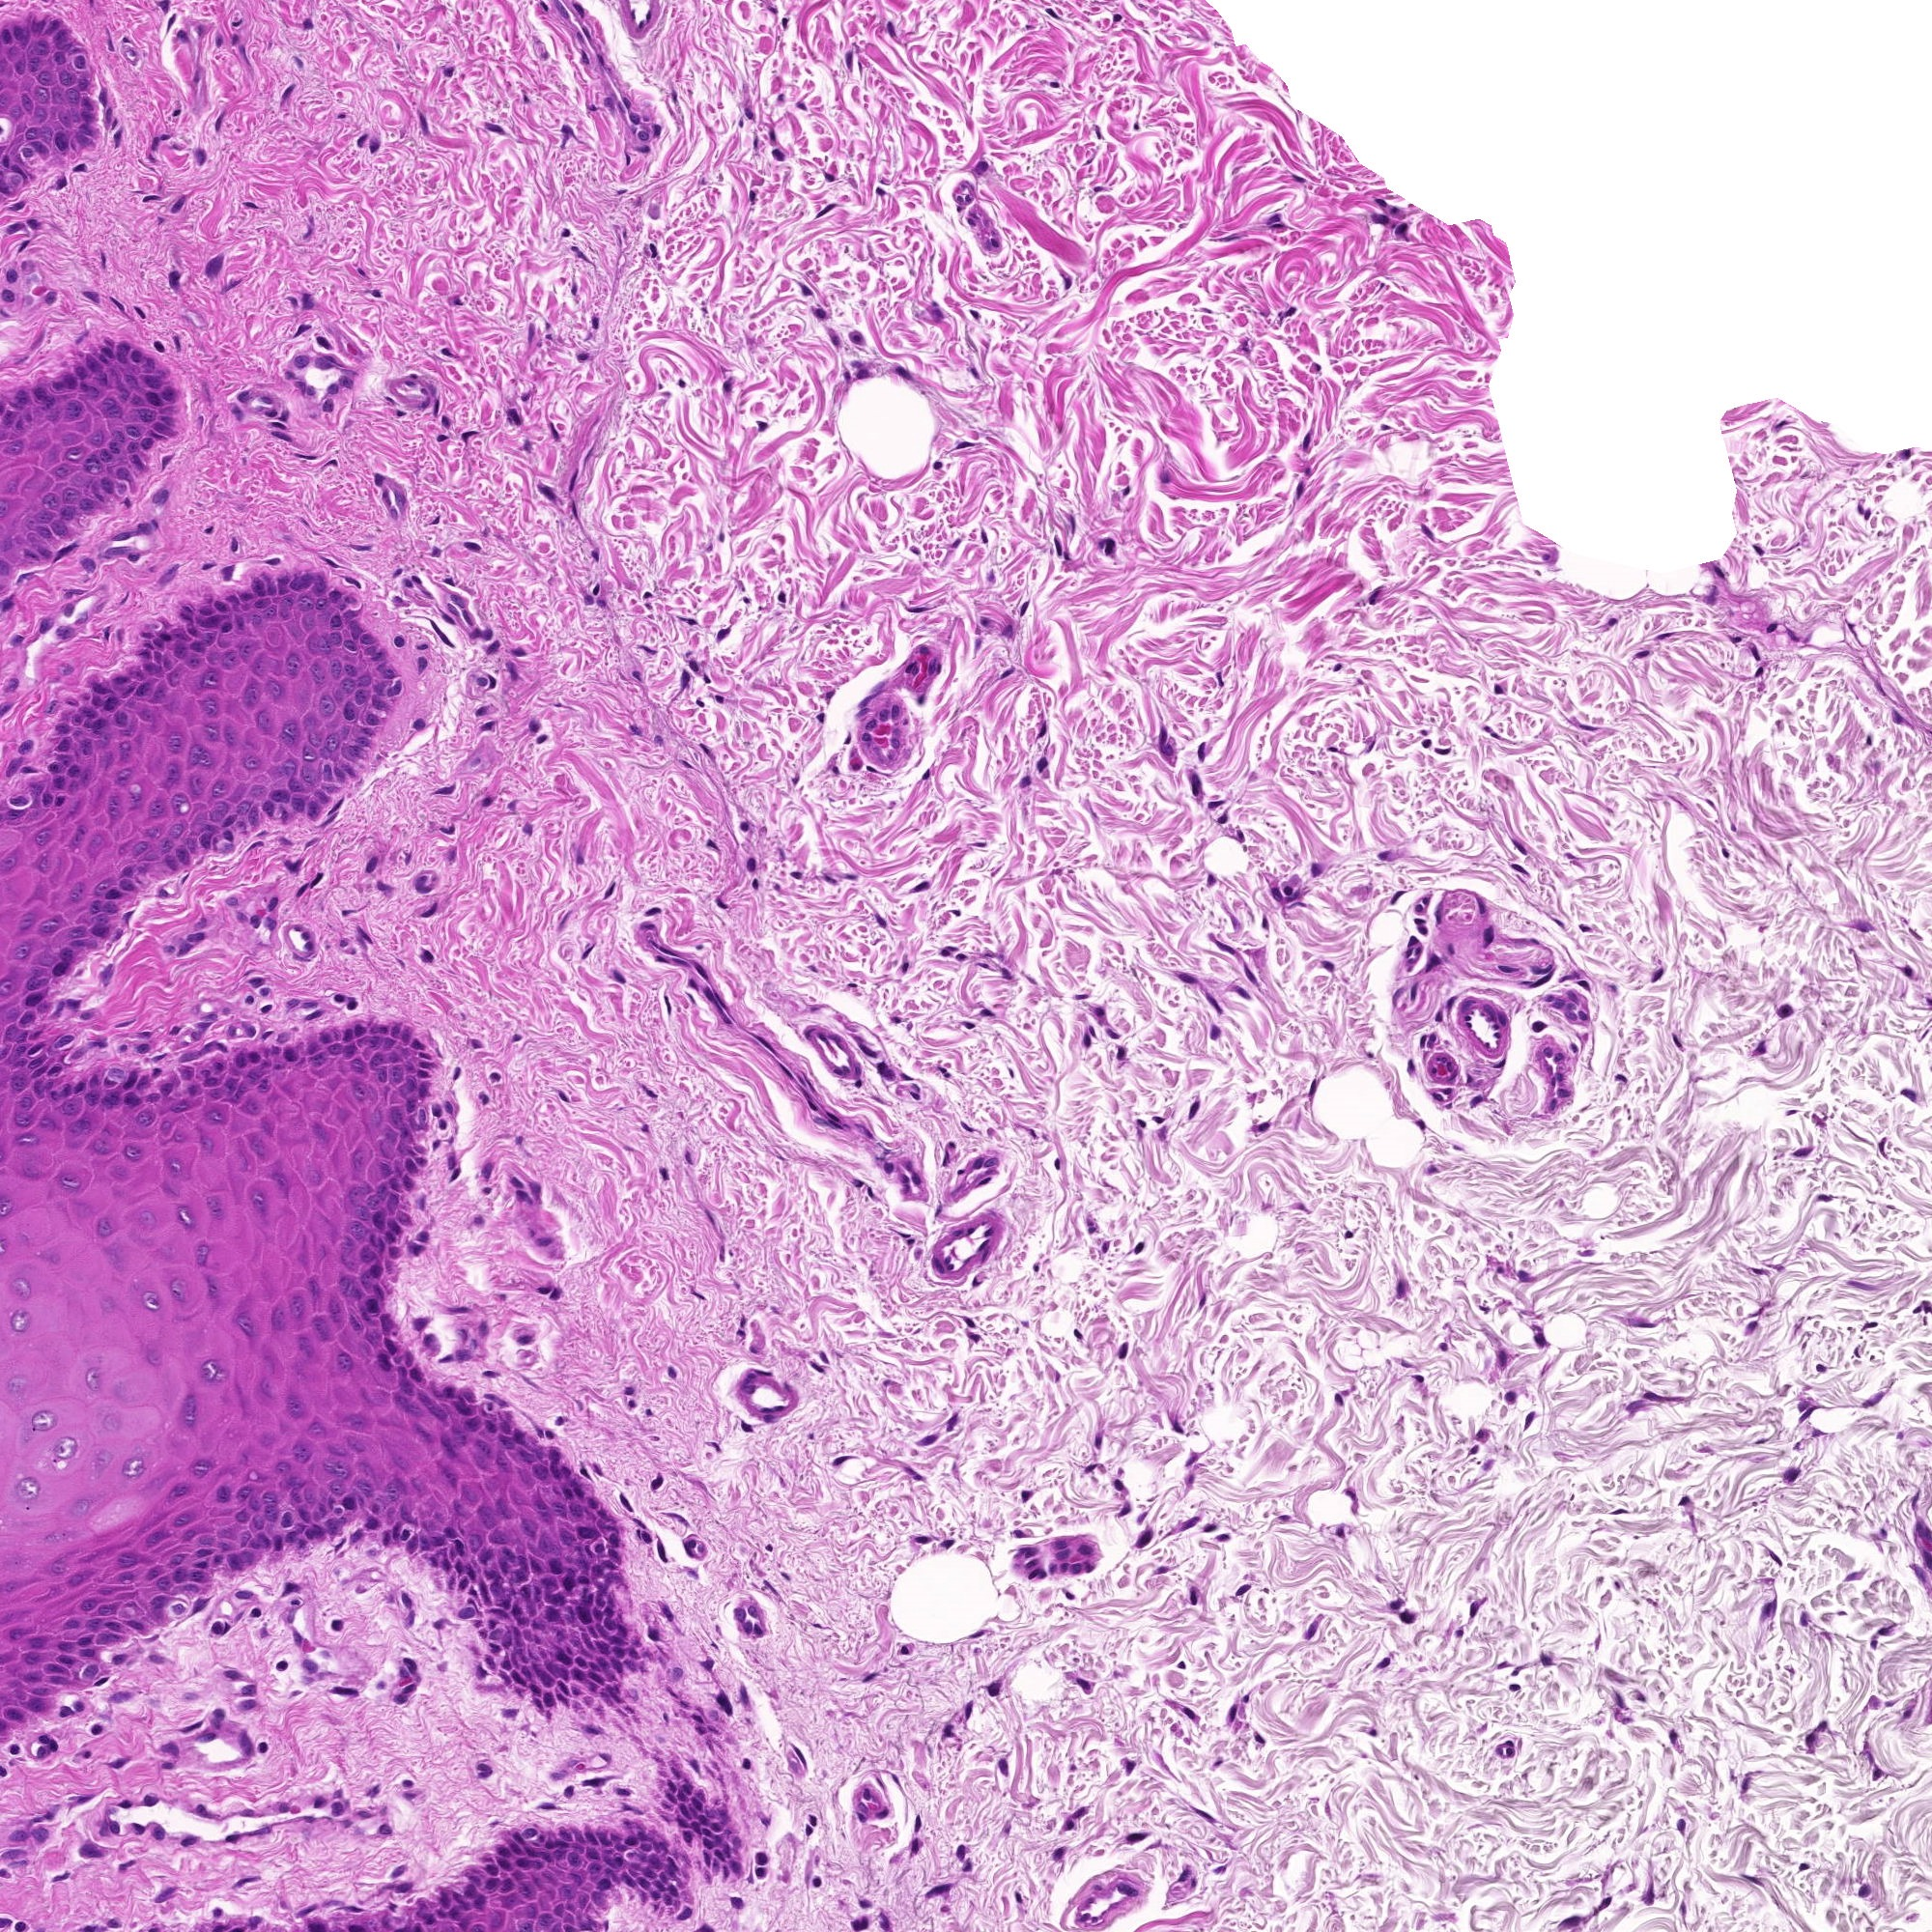epithelial: (104, 702, 136, 736), (356, 702, 387, 736), (327, 596, 359, 630), (377, 1348, 410, 1380), (219, 1054, 253, 1086), (334, 1497, 366, 1530), (73, 1601, 106, 1633), (520, 1826, 552, 1859), (138, 382, 170, 414), (44, 124, 76, 156), (57, 361, 88, 393), (152, 377, 184, 409), (131, 426, 163, 458), (69, 119, 101, 150), (14, 134, 46, 166), (131, 345, 163, 377), (27, 19, 58, 51), (87, 363, 119, 395), (62, 368, 94, 400), (74, 373, 106, 405), (87, 350, 119, 382), (48, 30, 80, 62), (150, 386, 182, 418), (4, 395, 35, 426), (81, 423, 113, 455), (111, 350, 143, 382), (97, 341, 129, 373), (127, 357, 159, 389), (58, 34, 90, 65), (50, 103, 81, 134), (14, 375, 46, 407), (142, 418, 173, 449), (34, 27, 65, 58), (23, 39, 55, 71), (97, 878, 129, 909), (92, 688, 124, 720), (83, 672, 115, 704), (39, 752, 71, 784), (209, 612, 241, 644), (363, 688, 395, 720), (212, 816, 244, 847), (320, 605, 352, 637), (48, 729, 80, 761), (290, 791, 322, 823), (267, 566, 299, 598), (111, 858, 143, 890), (196, 594, 228, 626), (156, 846, 188, 878), (19, 771, 51, 803), (80, 690, 111, 722), (133, 632, 165, 663), (361, 639, 393, 671), (375, 674, 407, 706), (69, 731, 101, 763), (120, 784, 152, 816), (290, 563, 322, 594), (334, 628, 366, 660), (64, 817, 96, 849), (150, 828, 182, 860), (225, 607, 257, 639), (278, 770, 310, 801), (460, 617, 492, 649), (207, 821, 239, 853), (145, 479, 177, 511), (235, 747, 267, 778), (237, 584, 269, 616), (28, 517, 60, 548), (143, 678, 175, 709), (244, 600, 276, 632), (349, 663, 380, 695), (306, 782, 338, 814), (269, 754, 301, 786), (188, 665, 219, 697), (23, 878, 55, 909), (87, 717, 119, 748), (265, 775, 297, 807), (299, 789, 331, 821), (73, 922, 104, 954), (241, 649, 272, 681), (110, 711, 142, 743), (46, 690, 78, 722), (324, 653, 356, 685), (51, 488, 83, 520), (99, 697, 131, 729), (180, 594, 212, 626), (311, 731, 343, 763), (119, 855, 150, 886), (311, 589, 343, 621), (242, 775, 274, 807), (203, 780, 235, 812), (356, 1290, 387, 1322), (395, 1088, 426, 1120), (372, 1306, 403, 1338), (310, 1023, 341, 1054), (373, 1316, 405, 1348), (150, 1072, 182, 1104), (402, 1028, 433, 1060), (407, 1074, 439, 1106), (96, 1076, 127, 1108), (315, 1030, 347, 1062), (303, 1031, 334, 1063), (396, 1152, 428, 1184), (67, 1108, 99, 1139), (373, 1024, 405, 1056), (350, 1297, 382, 1329), (23, 1072, 55, 1104), (380, 1014, 412, 1046), (237, 1060, 269, 1092), (303, 1115, 334, 1146), (106, 1069, 138, 1100), (395, 1069, 426, 1100), (172, 1056, 203, 1088), (288, 1039, 320, 1070), (260, 1306, 292, 1338), (257, 1035, 288, 1067), (212, 1047, 244, 1079), (359, 1231, 391, 1263), (329, 1346, 361, 1378), (131, 1102, 163, 1134), (389, 1116, 421, 1148), (92, 1067, 124, 1099), (278, 1389, 310, 1421), (173, 1398, 205, 1430), (235, 1090, 267, 1122), (168, 1201, 200, 1233), (191, 1127, 223, 1159), (359, 1269, 391, 1300), (359, 1214, 391, 1246), (329, 1023, 361, 1054), (379, 1042, 410, 1074), (143, 1077, 175, 1109), (269, 1046, 301, 1077), (343, 1072, 375, 1104), (2, 1046, 34, 1077), (403, 1369, 435, 1401), (73, 1090, 104, 1122), (356, 1322, 387, 1353), (173, 1040, 205, 1072), (407, 1102, 439, 1134), (373, 1161, 405, 1192), (318, 1019, 350, 1051), (182, 1062, 214, 1093), (78, 1361, 110, 1392), (308, 1318, 340, 1350), (373, 1120, 405, 1152), (343, 1023, 375, 1054), (248, 1047, 280, 1079), (41, 1040, 73, 1072), (226, 1085, 258, 1116), (25, 1408, 57, 1440), (453, 1555, 485, 1587), (458, 1881, 490, 1913), (19, 1688, 51, 1720), (218, 1479, 249, 1511), (433, 1550, 465, 1582), (78, 1608, 110, 1640), (433, 1516, 465, 1548), (71, 1635, 103, 1667), (69, 1624, 101, 1656), (16, 1661, 48, 1693), (41, 1651, 73, 1683), (410, 1527, 442, 1559), (143, 1587, 175, 1619), (57, 1608, 88, 1640), (228, 1477, 260, 1509), (62, 1562, 94, 1594), (25, 1681, 57, 1713), (389, 1500, 421, 1532), (442, 1493, 474, 1525), (350, 1472, 382, 1504), (9, 1695, 41, 1727), (255, 1486, 287, 1518), (299, 1900, 331, 1932), (449, 1543, 481, 1575), (280, 1479, 311, 1511), (380, 1513, 412, 1545), (318, 1474, 350, 1506), (142, 1598, 173, 1629), (88, 1605, 120, 1637), (853, 720, 885, 752), (878, 695, 909, 727), (858, 692, 890, 724), (481, 1410, 513, 1442), (502, 1421, 534, 1453), (731, 1371, 763, 1403), (497, 1412, 529, 1444), (481, 1391, 513, 1422), (874, 1368, 906, 1399), (570, 1516, 602, 1548), (540, 1550, 571, 1582), (602, 1845, 633, 1877), (488, 1847, 520, 1879), (501, 1661, 533, 1693), (584, 1532, 616, 1564), (502, 1821, 534, 1852), (591, 1589, 623, 1621), (594, 1608, 626, 1640), (586, 1647, 617, 1679), (656, 1852, 688, 1884), (644, 1829, 676, 1861), (596, 1677, 628, 1709), (529, 1670, 561, 1702), (586, 1573, 617, 1605), (579, 1852, 610, 1884), (577, 1486, 609, 1518), (591, 1601, 623, 1633), (536, 1651, 568, 1683), (692, 1835, 724, 1867), (525, 1456, 557, 1488), (582, 1583, 614, 1615), (513, 1656, 545, 1688), (499, 1612, 531, 1644), (672, 1821, 704, 1852), (616, 1638, 648, 1670), (492, 1658, 524, 1690), (559, 1821, 591, 1852), (556, 1644, 587, 1675), (563, 1495, 594, 1527), (621, 1813, 653, 1845), (559, 1675, 591, 1707), (690, 1822, 722, 1854), (499, 1863, 531, 1895), (584, 1562, 616, 1594), (541, 1665, 573, 1697), (621, 1831, 653, 1863), (481, 1599, 513, 1631), (575, 1610, 607, 1642), (711, 1854, 743, 1886), (531, 1580, 563, 1612), (497, 1580, 529, 1612), (545, 1483, 577, 1514), (518, 1622, 550, 1654), (568, 1479, 600, 1511), (605, 1858, 637, 1890), (579, 1522, 610, 1553), (556, 1559, 587, 1591), (591, 1667, 623, 1698), (568, 1886, 600, 1918), (612, 1844, 644, 1875), (529, 1642, 561, 1674), (1069, 1534, 1100, 1566), (1790, 1392, 1822, 1424), (219, 584, 253, 614), (327, 623, 361, 653), (205, 1039, 235, 1072), (382, 1205, 412, 1238), (435, 1449, 465, 1483), (520, 1844, 554, 1874), (669, 1769, 702, 1799), (692, 1845, 722, 1879), (506, 1652, 536, 1686), (566, 1667, 596, 1700), (5, 382, 35, 414), (136, 364, 166, 396), (90, 338, 122, 368), (5, 18, 35, 50), (74, 352, 106, 382), (12, 14, 44, 44), (65, 356, 97, 386), (44, 23, 76, 53), (108, 338, 138, 370), (44, 41, 74, 73), (90, 439, 122, 469), (58, 395, 90, 425), (71, 88, 103, 119), (78, 446, 110, 476), (396, 364, 426, 396), (51, 62, 81, 94), (119, 432, 150, 462), (65, 46, 96, 78), (4, 51, 35, 81), (108, 377, 140, 407), (18, 48, 50, 78), (42, 370, 73, 402), (58, 120, 90, 150), (108, 458, 140, 488), (119, 361, 149, 393), (127, 437, 159, 467), (103, 423, 133, 455), (67, 80, 97, 111), (35, 396, 67, 426), (81, 341, 111, 373), (28, 117, 58, 149), (19, 384, 50, 416), (4, 143, 35, 173), (120, 407, 152, 437), (294, 216, 324, 248), (149, 623, 180, 653), (81, 709, 111, 741), (196, 605, 226, 637), (260, 784, 292, 814), (333, 699, 364, 729), (244, 573, 274, 605), (106, 665, 136, 697), (191, 824, 223, 855), (253, 793, 285, 823), (205, 591, 237, 621), (172, 600, 202, 632), (85, 915, 115, 947), (73, 488, 103, 520), (50, 939, 81, 970), (285, 568, 315, 600), (165, 633, 195, 665), (230, 580, 260, 612), (34, 784, 64, 816), (166, 839, 198, 869), (58, 755, 90, 786), (73, 697, 103, 729), (356, 632, 387, 662), (48, 711, 78, 743), (304, 570, 334, 602), (2, 786, 32, 817), (180, 607, 212, 637), (111, 870, 143, 901), (27, 778, 58, 809), (191, 625, 221, 656), (189, 602, 221, 632), (46, 513, 76, 545), (177, 616, 209, 646), (260, 573, 290, 605), (212, 805, 244, 835), (276, 793, 306, 824), (97, 793, 129, 823), (235, 678, 265, 709), (318, 623, 349, 655), (96, 893, 126, 925), (64, 929, 96, 959), (235, 801, 267, 832), (50, 752, 81, 782), (62, 702, 92, 734), (62, 916, 92, 948), (214, 720, 244, 752), (67, 759, 97, 791), (336, 607, 366, 639), (278, 646, 308, 678), (28, 821, 58, 853), (85, 685, 117, 715), (196, 660, 226, 692), (9, 936, 39, 968), (304, 582, 334, 614), (262, 674, 292, 706), (62, 876, 92, 908), (267, 789, 297, 821), (329, 587, 361, 617), (88, 897, 119, 929), (90, 885, 122, 915), (28, 501, 60, 531), (195, 692, 226, 722), (195, 617, 225, 649), (11, 908, 41, 939), (345, 727, 377, 757), (149, 644, 179, 676), (311, 755, 341, 787), (92, 743, 122, 775), (159, 628, 189, 660), (88, 697, 119, 729), (110, 736, 140, 768), (35, 692, 67, 722), (212, 644, 244, 674), (214, 826, 244, 858), (48, 761, 80, 791), (333, 667, 363, 699), (230, 793, 260, 824), (301, 591, 333, 621), (184, 828, 214, 860), (196, 708, 226, 740), (163, 786, 195, 816), (228, 807, 258, 839), (48, 775, 78, 807), (366, 651, 398, 681), (251, 579, 281, 610), (301, 658, 333, 688), (18, 763, 50, 793), (81, 826, 111, 858), (133, 621, 163, 653), (131, 699, 163, 729), (44, 722, 76, 752), (23, 786, 53, 817), (119, 679, 150, 709), (16, 984, 48, 1014), (274, 1039, 306, 1069), (117, 1085, 147, 1116), (448, 1394, 479, 1424), (375, 1330, 405, 1362), (117, 1067, 149, 1097), (377, 1215, 409, 1246), (363, 1203, 393, 1235), (18, 1033, 50, 1063), (359, 1256, 391, 1286), (336, 1017, 366, 1049), (456, 1408, 487, 1440), (64, 1072, 96, 1102), (37, 1054, 69, 1085), (453, 1401, 485, 1431), (76, 1083, 108, 1113), (177, 1074, 207, 1106), (14, 993, 44, 1024), (218, 1072, 248, 1104), (444, 1382, 476, 1412), (423, 1398, 455, 1428), (380, 1099, 410, 1131), (88, 1212, 120, 1242), (303, 1042, 333, 1074), (391, 1341, 423, 1371), (18, 968, 48, 1000), (352, 1240, 382, 1272), (202, 1192, 232, 1224), (48, 1024, 80, 1054), (196, 1274, 228, 1304), (195, 1357, 226, 1387), (4, 1035, 35, 1065), (175, 1387, 205, 1419), (299, 1272, 329, 1304), (19, 1023, 51, 1053), (393, 1168, 423, 1200), (80, 1065, 110, 1097), (166, 1090, 196, 1122), (366, 1014, 396, 1046), (134, 1062, 166, 1092), (244, 1185, 274, 1217), (386, 1387, 418, 1417), (117, 1138, 149, 1168), (396, 1350, 428, 1380), (138, 1083, 168, 1115), (391, 1357, 421, 1389), (188, 1240, 218, 1272), (423, 1380, 455, 1410), (4, 1067, 34, 1099), (9, 1086, 41, 1116), (387, 1021, 419, 1051), (7, 1106, 39, 1136), (375, 1231, 405, 1263), (265, 1162, 295, 1194), (11, 1023, 41, 1054), (113, 1076, 145, 1106), (449, 1414, 479, 1445), (340, 1309, 372, 1339), (19, 1062, 51, 1092), (340, 1277, 372, 1307), (352, 1260, 384, 1290), (331, 1267, 361, 1299), (382, 1338, 412, 1369), (380, 1058, 412, 1088), (94, 1086, 124, 1118), (382, 1031, 412, 1063), (318, 1297, 350, 1327), (138, 1286, 170, 1316), (248, 1376, 280, 1407), (50, 1164, 81, 1194), (432, 1421, 462, 1453), (11, 1012, 41, 1044), (377, 1184, 409, 1214), (382, 1169, 414, 1200), (370, 1154, 402, 1184), (366, 1226, 396, 1258), (134, 1339, 166, 1369), (437, 1384, 467, 1415), (341, 1405, 372, 1437), (207, 1069, 239, 1099), (290, 1330, 320, 1362), (161, 1277, 193, 1307), (226, 1300, 257, 1332), (25, 989, 55, 1021), (202, 1077, 232, 1109), (281, 1286, 311, 1318), (246, 1039, 278, 1069), (83, 1132, 115, 1162), (327, 1099, 357, 1131), (157, 1150, 188, 1182), (455, 1389, 487, 1419), (99, 1240, 131, 1270), (396, 1380, 428, 1410), (127, 1079, 157, 1111), (34, 1074, 65, 1104), (373, 1203, 403, 1235), (395, 1136, 425, 1168), (405, 1037, 437, 1067), (441, 1419, 472, 1449), (310, 1039, 341, 1069), (267, 1031, 297, 1063), (333, 1230, 364, 1260), (340, 1177, 372, 1207), (90, 959, 120, 991), (354, 1200, 384, 1231), (301, 1412, 333, 1442), (403, 1093, 435, 1123), (255, 1345, 285, 1376), (264, 1051, 294, 1083), (359, 1185, 391, 1215), (354, 1223, 386, 1253), (173, 1208, 205, 1238), (228, 1037, 258, 1069), (4, 1019, 34, 1051), (103, 1157, 134, 1187), (400, 1109, 432, 1139), (163, 1120, 193, 1152), (60, 1115, 92, 1145), (437, 1898, 469, 1928), (207, 1479, 239, 1509), (444, 1552, 476, 1582), (180, 1560, 212, 1591), (165, 1559, 195, 1591), (299, 1516, 329, 1548), (21, 1626, 51, 1658), (16, 1644, 48, 1674), (357, 1507, 387, 1539), (421, 1546, 453, 1576), (276, 1522, 308, 1552), (94, 1619, 126, 1649), (120, 1610, 152, 1640), (219, 1546, 249, 1578), (202, 1545, 234, 1575), (317, 1513, 349, 1543), (456, 1867, 487, 1898), (2, 1698, 32, 1730), (396, 1529, 428, 1559), (76, 1654, 106, 1686), (92, 1592, 122, 1624), (166, 1504, 196, 1536), (433, 1461, 465, 1491), (430, 1895, 460, 1927), (283, 1525, 313, 1557), (451, 1598, 481, 1629), (25, 1819, 55, 1851), (41, 1663, 73, 1693), (439, 1882, 471, 1913), (313, 1506, 345, 1536), (460, 1573, 490, 1605), (380, 1472, 410, 1504), (111, 1560, 142, 1592), (451, 1884, 481, 1916), (235, 1541, 265, 1573), (407, 1893, 437, 1925), (280, 1468, 310, 1500), (161, 1545, 191, 1576), (41, 1552, 73, 1582), (88, 1622, 119, 1654), (375, 1893, 405, 1925), (460, 1523, 490, 1555), (453, 1479, 485, 1509), (173, 1518, 203, 1550), (280, 1511, 311, 1541), (172, 1568, 203, 1598), (327, 1504, 357, 1536), (90, 1576, 122, 1606), (304, 1499, 334, 1530), (320, 1454, 350, 1486), (287, 1438, 318, 1468), (402, 1472, 433, 1502), (292, 1523, 322, 1555), (437, 1437, 467, 1468), (414, 1509, 444, 1541), (237, 1488, 269, 1518), (211, 1525, 241, 1557), (283, 1490, 315, 1520), (395, 1507, 425, 1539), (437, 1568, 467, 1599), (464, 1557, 494, 1589), (80, 1592, 110, 1624), (235, 1529, 265, 1560), (414, 1539, 444, 1571), (120, 1453, 150, 1484), (458, 1856, 488, 1888), (596, 87, 626, 119), (609, 87, 639, 119), (573, 439, 605, 469), (869, 699, 901, 729), (858, 709, 888, 741), (881, 725, 911, 757), (853, 702, 885, 732), (490, 1417, 520, 1449), (771, 1373, 803, 1403), (789, 1067, 819, 1099), (563, 1660, 593, 1691), (548, 1642, 580, 1672), (541, 1583, 573, 1614), (614, 1824, 644, 1856), (529, 1660, 561, 1690), (570, 1587, 600, 1619), (570, 1599, 600, 1631), (566, 1645, 596, 1677), (488, 1836, 520, 1867), (504, 1560, 534, 1592), (607, 1614, 637, 1645), (589, 1868, 621, 1898), (559, 1474, 591, 1504), (533, 1684, 564, 1714), (508, 1847, 540, 1877), (520, 1552, 552, 1582), (533, 1568, 564, 1598), (490, 1868, 522, 1898), (612, 1865, 644, 1895), (699, 1826, 729, 1858), (490, 1546, 520, 1578), (510, 1576, 540, 1608), (520, 1674, 550, 1706), (708, 1838, 738, 1870), (490, 1647, 522, 1677), (506, 1833, 536, 1865), (669, 1778, 701, 1808), (579, 1663, 609, 1695), (568, 1564, 600, 1594), (545, 1456, 575, 1488), (602, 1651, 633, 1681), (690, 1810, 722, 1840), (639, 1847, 671, 1877), (515, 1835, 545, 1867), (582, 1555, 614, 1585), (575, 1821, 605, 1852), (628, 1867, 660, 1897), (681, 1812, 711, 1844), (587, 1499, 617, 1530), (589, 1509, 621, 1539), (561, 1486, 591, 1518), (545, 1656, 575, 1688), (531, 1842, 563, 1872), (497, 1844, 529, 1874), (550, 1522, 582, 1552), (534, 1831, 564, 1863), (655, 1867, 685, 1898), (582, 1599, 614, 1629), (598, 1539, 630, 1569), (706, 1801, 738, 1831), (722, 1851, 752, 1882), (501, 1543, 533, 1573), (522, 1610, 554, 1640), (506, 1603, 536, 1635), (540, 1449, 571, 1479), (568, 1548, 598, 1580), (481, 1559, 513, 1589), (678, 1780, 708, 1812), (593, 1550, 625, 1580), (605, 1836, 635, 1868), (699, 1805, 729, 1836), (483, 1522, 513, 1553), (593, 1851, 625, 1881), (557, 1599, 589, 1629), (591, 1656, 621, 1688), (591, 1617, 621, 1649), (545, 1493, 575, 1525), (600, 1619, 630, 1651), (541, 1838, 571, 1870), (717, 1829, 748, 1859), (494, 1884, 524, 1916), (487, 1580, 518, 1610), (646, 1859, 676, 1891), (715, 1844, 745, 1875), (492, 1858, 522, 1890), (515, 1667, 545, 1698), (543, 1683, 573, 1714), (552, 1875, 582, 1907), (563, 1861, 593, 1893), (575, 1649, 607, 1679), (632, 1844, 663, 1874), (524, 1490, 556, 1520), (513, 1513, 543, 1545), (515, 1897, 545, 1928), (488, 1495, 518, 1527), (640, 1879, 671, 1911), (538, 1440, 570, 1470), (568, 1826, 600, 1856), (545, 1619, 575, 1651), (616, 1651, 648, 1681), (598, 1513, 628, 1545), (614, 1810, 644, 1842), (573, 1576, 603, 1608), (517, 1591, 547, 1622), (596, 1861, 628, 1891), (635, 1822, 667, 1852), (506, 1670, 536, 1702), (704, 1821, 736, 1851), (568, 1836, 598, 1868), (614, 1628, 646, 1658), (660, 1755, 690, 1787), (548, 1578, 580, 1608), (667, 1787, 697, 1819), (538, 1575, 570, 1605), (529, 1530, 561, 1560), (577, 1497, 609, 1527), (479, 1617, 511, 1647), (524, 1571, 556, 1601), (501, 1624, 533, 1654), (571, 1628, 603, 1658), (490, 1536, 522, 1566), (573, 1539, 603, 1571), (506, 1589, 536, 1621), (520, 1440, 550, 1472), (543, 1605, 573, 1637), (525, 1863, 556, 1895), (513, 1858, 543, 1890), (511, 1568, 541, 1599), (660, 1844, 692, 1874), (517, 1456, 547, 1488), (582, 1672, 614, 1702), (552, 1587, 582, 1619), (538, 1541, 570, 1571), (495, 1829, 527, 1859), (655, 1783, 685, 1815), (499, 1569, 529, 1601), (593, 1520, 623, 1552), (488, 1562, 518, 1594), (660, 1656, 692, 1686), (479, 1844, 510, 1875), (511, 1463, 541, 1495), (575, 1677, 605, 1709), (561, 1626, 593, 1656), (964, 152, 996, 182), (1260, 205, 1290, 237), (993, 614, 1023, 646), (977, 939, 1007, 971), (1422, 1047, 1453, 1079), (1047, 1534, 1079, 1564), (1063, 1552, 1093, 1583), (1047, 1550, 1079, 1580), (1042, 1541, 1074, 1571), (1645, 886, 1677, 916), (1437, 1056, 1468, 1086), (1631, 1555, 1663, 1585), (27, 380, 57, 410), (51, 368, 81, 398), (25, 133, 55, 163), (131, 402, 161, 432), (119, 416, 149, 446), (73, 103, 103, 133), (149, 412, 179, 442), (27, 32, 57, 62), (122, 341, 152, 372), (122, 446, 152, 476), (97, 395, 127, 425), (99, 433, 129, 464), (69, 69, 99, 99), (5, 157, 35, 188), (122, 386, 152, 416), (18, 119, 48, 149), (4, 407, 34, 437), (28, 62, 58, 92), (182, 62, 212, 92), (46, 456, 76, 487), (90, 464, 120, 494), (11, 87, 41, 117), (150, 370, 180, 400), (96, 359, 126, 389), (58, 435, 88, 465), (127, 674, 157, 704), (42, 768, 73, 798), (44, 786, 74, 816), (283, 787, 313, 817), (182, 632, 212, 662), (320, 580, 350, 610), (246, 589, 276, 619), (0, 798, 30, 828), (19, 540, 50, 570), (341, 616, 372, 646), (180, 640, 211, 671), (51, 499, 81, 529), (274, 720, 304, 750), (157, 759, 188, 789), (340, 736, 370, 766), (274, 784, 304, 814), (352, 623, 382, 653), (142, 794, 172, 824), (133, 644, 163, 674), (345, 681, 375, 711), (195, 816, 225, 846), (28, 538, 58, 568), (165, 623, 195, 653), (136, 653, 166, 683), (329, 757, 359, 787), (203, 771, 234, 801), (373, 658, 403, 688), (184, 740, 214, 770), (161, 729, 191, 759), (366, 674, 396, 704), (108, 763, 138, 793), (211, 600, 241, 630), (334, 655, 364, 685), (35, 485, 65, 515), (124, 660, 154, 690), (27, 847, 57, 878), (248, 706, 278, 736), (269, 800, 299, 830), (143, 628, 173, 658), (179, 771, 209, 801), (272, 586, 303, 616), (274, 573, 304, 603), (11, 927, 41, 957), (58, 770, 88, 800), (350, 717, 380, 747), (230, 633, 260, 663), (308, 628, 338, 658), (209, 798, 239, 828), (196, 718, 226, 748), (251, 568, 281, 598), (311, 690, 341, 720), (157, 660, 188, 690), (127, 833, 157, 863), (191, 747, 221, 777), (136, 817, 166, 847), (83, 481, 113, 511), (60, 793, 90, 823), (12, 777, 42, 807), (255, 596, 285, 626), (239, 1042, 269, 1072), (103, 1085, 133, 1115), (433, 1378, 464, 1408), (12, 1003, 42, 1033), (402, 1359, 432, 1389), (21, 1047, 51, 1077), (203, 1051, 234, 1081), (334, 1035, 364, 1065), (225, 1046, 255, 1076), (127, 1069, 157, 1099), (391, 1371, 421, 1401), (50, 1076, 80, 1106), (195, 1065, 225, 1095), (359, 1026, 389, 1056), (361, 1044, 391, 1074), (409, 1384, 439, 1414), (347, 1016, 377, 1046), (363, 1279, 393, 1309), (200, 1100, 230, 1131), (39, 1079, 69, 1109), (409, 1054, 439, 1085), (366, 1175, 396, 1205), (304, 1311, 334, 1341), (248, 1069, 278, 1099), (366, 1060, 396, 1090), (34, 1108, 64, 1138), (230, 1309, 260, 1339), (341, 1145, 372, 1175), (343, 1051, 373, 1081), (410, 1421, 441, 1451), (241, 1129, 271, 1159), (251, 1111, 281, 1141), (395, 1392, 425, 1422), (16, 1159, 46, 1189), (402, 1079, 432, 1109), (416, 1392, 446, 1422), (219, 1081, 249, 1111), (35, 1242, 65, 1272), (27, 1054, 57, 1085), (154, 1173, 184, 1203), (343, 1214, 373, 1244), (386, 1108, 416, 1138), (366, 1299, 396, 1329), (5, 1123, 35, 1154), (393, 1031, 423, 1062), (405, 1146, 435, 1177), (391, 1054, 421, 1085), (301, 1161, 331, 1191), (345, 1284, 375, 1315), (403, 1063, 433, 1093), (67, 1086, 97, 1116), (387, 1095, 418, 1125), (435, 1401, 465, 1431), (333, 1488, 363, 1518), (444, 1532, 474, 1562), (271, 1506, 301, 1536), (428, 1884, 458, 1914), (444, 1890, 474, 1920), (51, 1645, 81, 1675), (165, 1476, 195, 1506), (97, 1610, 127, 1640), (387, 1520, 418, 1550), (262, 1529, 292, 1559), (423, 1527, 453, 1557), (288, 1499, 318, 1529), (375, 1520, 405, 1550), (50, 1631, 80, 1661), (246, 1527, 276, 1557), (73, 1589, 103, 1619), (186, 1550, 216, 1580), (412, 1902, 442, 1932), (113, 1545, 143, 1575), (142, 1520, 172, 1550), (188, 1449, 218, 1479), (138, 1559, 168, 1589), (5, 1821, 35, 1851), (257, 1497, 287, 1527), (188, 1537, 218, 1568), (437, 1541, 467, 1571), (226, 1500, 257, 1530), (149, 1569, 179, 1599), (267, 1453, 297, 1483), (448, 1877, 478, 1907), (310, 1493, 340, 1523), (448, 1902, 478, 1932), (292, 1511, 322, 1541), (361, 1493, 391, 1523), (306, 1511, 336, 1541), (317, 1484, 347, 1514), (456, 1589, 487, 1619), (242, 1509, 272, 1539), (67, 1488, 97, 1518), (191, 1529, 221, 1559), (294, 1483, 324, 1513), (350, 1453, 380, 1483), (922, 299, 952, 329), (570, 18, 600, 48), (639, 196, 669, 226), (897, 653, 927, 683), (918, 651, 948, 681), (847, 692, 878, 722), (564, 842, 594, 872), (649, 936, 679, 966), (863, 704, 893, 734), (863, 676, 893, 706), (663, 943, 694, 973), (490, 1405, 520, 1435), (927, 1249, 957, 1279), (554, 1569, 584, 1599), (538, 1599, 568, 1629), (587, 1633, 617, 1663), (501, 1596, 531, 1626), (681, 1789, 711, 1819), (481, 1568, 511, 1598), (488, 1592, 518, 1622), (543, 1829, 573, 1859), (603, 1628, 633, 1658), (584, 1824, 614, 1854), (577, 1840, 607, 1870), (667, 1805, 697, 1835), (625, 1822, 655, 1852), (646, 1874, 676, 1904), (656, 1775, 686, 1805), (699, 1842, 729, 1872), (548, 1674, 579, 1704), (510, 1548, 540, 1578), (656, 1879, 686, 1909), (548, 1822, 579, 1852), (596, 1824, 626, 1854), (633, 1858, 663, 1888), (552, 1477, 582, 1507), (511, 1875, 541, 1905), (520, 1580, 550, 1610), (492, 1626, 522, 1656), (510, 1440, 540, 1470), (479, 1633, 510, 1663), (603, 1640, 633, 1670), (596, 1562, 626, 1592), (550, 1835, 580, 1865), (591, 1833, 621, 1863), (531, 1902, 561, 1932), (481, 1856, 511, 1886), (566, 1534, 596, 1564), (692, 1799, 722, 1829), (630, 1829, 660, 1859), (487, 1447, 517, 1477), (531, 1499, 561, 1529), (561, 1831, 591, 1861), (550, 1555, 580, 1585), (525, 1688, 556, 1718), (619, 1852, 649, 1882), (522, 1654, 552, 1684), (502, 1638, 533, 1668), (529, 1822, 559, 1852), (683, 1704, 713, 1734), (584, 1879, 614, 1909), (623, 1861, 653, 1891), (543, 1594, 573, 1624), (543, 1895, 573, 1925), (481, 1902, 511, 1932), (495, 1555, 525, 1585), (518, 1644, 548, 1674), (481, 1642, 511, 1672), (559, 1525, 589, 1555), (584, 1844, 614, 1874), (1230, 331, 1260, 361), (978, 228, 1008, 258), (959, 203, 989, 234), (1215, 223, 1246, 253), (1056, 508, 1086, 538), (1355, 729, 1385, 759), (1847, 911, 1877, 941), (1534, 541, 1564, 571), (1490, 943, 1520, 973), (1456, 1065, 1486, 1095), (1453, 1003, 1483, 1033), (1805, 1106, 1835, 1136), (1555, 996, 1585, 1026), (1573, 1767, 1603, 1798), (1898, 1484, 1928, 1514), (1858, 1686, 1888, 1716), (34, 386, 62, 418), (111, 368, 143, 396), (4, 96, 35, 124), (80, 893, 111, 922), (96, 678, 124, 709), (44, 738, 73, 770), (96, 916, 124, 948), (370, 1345, 398, 1376), (55, 1093, 87, 1122), (453, 1578, 481, 1610), (426, 1534, 458, 1562), (467, 1541, 495, 1573), (557, 464, 589, 492), (561, 1844, 589, 1875), (600, 1525, 628, 1557), (685, 1803, 713, 1835), (513, 1819, 545, 1847), (568, 1504, 596, 1536), (479, 1608, 508, 1640), (1067, 1902, 1099, 1930), (39, 12, 69, 41), (21, 12, 51, 41), (113, 674, 143, 702), (34, 913, 62, 943), (67, 495, 97, 524), (295, 706, 324, 736), (451, 1566, 481, 1594), (2, 1619, 30, 1649), (423, 1902, 453, 1930), (941, 1219, 971, 1247), (669, 1798, 699, 1826), (552, 1465, 582, 1493), (479, 1868, 508, 1898), (571, 1902, 602, 1930), (1817, 747, 1847, 775)
fibroblast and endothelial: (117, 518, 150, 550), (241, 1016, 274, 1047), (832, 860, 865, 892), (1097, 1017, 1129, 1051), (166, 19, 198, 51), (271, 76, 303, 108), (228, 380, 260, 412), (101, 120, 133, 152), (163, 188, 195, 219), (308, 345, 340, 377), (416, 389, 448, 421), (407, 106, 439, 138), (428, 403, 460, 435), (267, 421, 299, 453), (225, 387, 257, 419), (9, 211, 41, 242), (303, 373, 334, 405), (290, 441, 322, 472), (2, 203, 34, 235), (264, 407, 295, 439), (97, 110, 129, 142), (117, 540, 149, 571), (285, 874, 317, 906), (414, 895, 446, 927), (396, 564, 428, 596), (193, 513, 225, 545), (382, 481, 414, 513), (92, 617, 124, 649), (191, 550, 223, 582), (111, 487, 143, 518), (464, 695, 495, 727), (442, 584, 474, 616), (382, 584, 414, 616), (241, 826, 272, 858), (382, 556, 414, 587), (331, 895, 363, 927), (290, 936, 322, 968), (327, 984, 359, 1016), (242, 964, 274, 996), (407, 1221, 439, 1253), (402, 1233, 433, 1265), (62, 991, 94, 1023), (83, 1026, 115, 1058), (129, 1019, 161, 1051), (267, 991, 299, 1023), (96, 1030, 127, 1062), (44, 993, 76, 1024), (246, 1730, 278, 1762), (216, 1822, 248, 1854), (97, 1812, 129, 1844), (303, 1787, 334, 1819), (290, 1895, 322, 1927), (78, 1835, 110, 1867), (320, 1608, 352, 1640), (216, 1658, 248, 1690), (186, 1794, 218, 1826), (225, 1578, 257, 1610), (387, 1872, 419, 1904), (228, 1865, 260, 1897), (423, 1608, 455, 1640), (349, 1798, 380, 1829), (69, 1737, 101, 1769), (338, 1893, 370, 1925), (391, 1767, 423, 1799), (267, 1790, 299, 1822), (182, 1716, 214, 1748), (140, 1642, 172, 1674), (4, 1898, 35, 1930), (464, 1654, 495, 1686), (124, 1810, 156, 1842), (237, 1819, 269, 1851), (226, 1665, 258, 1697), (364, 1668, 396, 1700), (639, 113, 671, 145), (839, 359, 870, 391), (628, 133, 660, 165), (637, 234, 669, 265), (570, 41, 602, 73), (510, 380, 541, 412), (764, 81, 796, 113), (839, 331, 870, 363), (678, 649, 709, 681), (706, 617, 738, 649), (908, 633, 939, 665), (821, 862, 853, 893), (738, 862, 770, 893), (729, 810, 761, 842), (695, 828, 727, 860), (674, 605, 706, 637), (839, 748, 870, 780), (780, 858, 812, 890), (909, 759, 941, 791), (582, 582, 614, 614), (750, 869, 782, 901), (939, 527, 971, 559), (888, 941, 920, 973), (495, 789, 527, 821), (497, 658, 529, 690), (853, 1037, 885, 1069), (697, 980, 729, 1012), (817, 1104, 849, 1136), (899, 1159, 931, 1191), (893, 1164, 925, 1196), (529, 1274, 561, 1306), (520, 1173, 552, 1205), (747, 1359, 778, 1391), (853, 1173, 885, 1205), (614, 1378, 646, 1410), (656, 1357, 688, 1389), (823, 1026, 855, 1058), (807, 1341, 839, 1373), (881, 1003, 913, 1035), (913, 1421, 945, 1453), (847, 1030, 879, 1062), (738, 1350, 770, 1382), (740, 1332, 771, 1364), (893, 1070, 925, 1102), (499, 1164, 531, 1196), (835, 1046, 867, 1077), (646, 1536, 678, 1568), (906, 1523, 938, 1555), (725, 1681, 757, 1713), (575, 1714, 607, 1746), (731, 1748, 763, 1780), (738, 1603, 770, 1635), (679, 1748, 711, 1780), (844, 1898, 876, 1930), (867, 1900, 899, 1932), (897, 1833, 929, 1865), (879, 1762, 911, 1794), (541, 1759, 573, 1790), (584, 1454, 616, 1486), (653, 1539, 685, 1571), (770, 1560, 801, 1592), (1366, 203, 1398, 235), (1290, 425, 1322, 456), (1380, 205, 1412, 237), (1100, 2, 1132, 34), (959, 356, 991, 387), (1380, 879, 1412, 911), (1010, 764, 1042, 796), (1026, 748, 1058, 780), (1026, 713, 1058, 745), (1150, 732, 1182, 764), (1412, 885, 1444, 916), (1316, 732, 1348, 764), (1171, 962, 1203, 994), (1072, 1021, 1104, 1053), (1125, 1108, 1157, 1139), (1200, 989, 1231, 1021), (1122, 1231, 1154, 1263), (1332, 1219, 1364, 1251), (970, 1226, 1001, 1258), (1200, 1016, 1231, 1047), (1394, 1051, 1426, 1083), (1062, 1318, 1093, 1350), (959, 1265, 991, 1297), (968, 1235, 1000, 1267), (1146, 1116, 1178, 1148), (1421, 1079, 1453, 1111), (1021, 1251, 1053, 1283), (1092, 1010, 1123, 1042), (1118, 1821, 1150, 1852), (1389, 1599, 1421, 1631), (1173, 1697, 1205, 1729), (1226, 1573, 1258, 1605), (1042, 1836, 1074, 1868), (1072, 1550, 1104, 1582), (1244, 1723, 1276, 1755), (1336, 1477, 1368, 1509), (1053, 1578, 1085, 1610), (1146, 1553, 1178, 1585), (1230, 1683, 1261, 1714), (1224, 1688, 1256, 1720), (1164, 1647, 1196, 1679), (1847, 495, 1879, 527), (1720, 623, 1752, 655), (1476, 717, 1507, 748), (1513, 925, 1545, 957), (1835, 610, 1867, 642), (1522, 1010, 1553, 1042), (1642, 959, 1674, 991), (1893, 1077, 1925, 1109), (1769, 994, 1801, 1026), (1495, 1380, 1527, 1412), (1637, 1380, 1668, 1412), (1548, 985, 1580, 1017), (1451, 993, 1483, 1024), (1486, 1003, 1518, 1035), (1546, 1074, 1578, 1106), (1661, 1024, 1693, 1056), (1808, 1182, 1840, 1214), (1539, 961, 1571, 993), (1437, 985, 1468, 1017), (1472, 994, 1504, 1026), (1736, 1309, 1767, 1341), (1842, 1336, 1874, 1368), (1794, 1723, 1826, 1755), (1499, 1670, 1530, 1702), (1776, 1458, 1808, 1490), (1861, 1757, 1893, 1789), (1806, 1709, 1838, 1741), (1668, 1484, 1700, 1516), (1752, 1592, 1783, 1624), (1633, 1881, 1665, 1913), (1665, 1808, 1697, 1840), (1500, 1654, 1532, 1686), (1598, 1660, 1629, 1691), (258, 545, 288, 579), (257, 1017, 287, 1051), (701, 683, 734, 713), (1555, 909, 1589, 939), (308, 326, 338, 357), (350, 127, 382, 157), (159, 262, 189, 294), (433, 423, 465, 453), (18, 207, 50, 237), (198, 249, 230, 280), (359, 131, 389, 163), (311, 389, 341, 421), (46, 166, 76, 198), (134, 182, 165, 214), (292, 7, 322, 39), (147, 122, 177, 154), (257, 398, 288, 428), (234, 189, 265, 219), (103, 288, 133, 320), (76, 280, 106, 311), (124, 297, 156, 327), (267, 400, 297, 432), (221, 7, 253, 37), (253, 389, 283, 421), (9, 228, 39, 260), (2, 191, 34, 221), (331, 364, 361, 396), (361, 278, 391, 310), (186, 140, 216, 172), (221, 396, 253, 426), (433, 55, 464, 87), (216, 269, 248, 299), (159, 329, 191, 359), (186, 14, 216, 46), (219, 19, 251, 50), (88, 81, 119, 113), (35, 281, 65, 313), (288, 361, 318, 393), (140, 127, 170, 159), (317, 446, 347, 478), (223, 28, 255, 58), (92, 92, 122, 124), (299, 350, 331, 380), (110, 27, 142, 57), (313, 354, 343, 386), (88, 244, 119, 276), (301, 863, 331, 895), (50, 534, 80, 566), (258, 886, 288, 918), (276, 849, 308, 879), (410, 941, 442, 971), (407, 639, 437, 671), (50, 616, 80, 648), (108, 520, 140, 550), (103, 538, 134, 568), (104, 527, 134, 559), (73, 548, 103, 580), (257, 901, 288, 931), (11, 731, 41, 763), (384, 625, 414, 656), (28, 610, 58, 642), (129, 513, 161, 543), (338, 566, 370, 596), (453, 600, 483, 632), (239, 906, 271, 936), (368, 872, 398, 904), (421, 614, 453, 644), (219, 529, 249, 561), (182, 920, 214, 950), (405, 869, 437, 899), (432, 603, 464, 633), (433, 626, 464, 658), (433, 564, 465, 594), (315, 547, 345, 579), (421, 536, 451, 568), (285, 916, 317, 947), (281, 858, 311, 890), (402, 628, 432, 660), (55, 594, 85, 626), (435, 839, 467, 869), (421, 628, 453, 658), (347, 531, 377, 563), (448, 593, 479, 623), (441, 623, 472, 653), (157, 932, 188, 964), (4, 748, 34, 780), (216, 886, 248, 916), (154, 557, 184, 589), (292, 869, 322, 901), (370, 481, 402, 511), (437, 575, 467, 607), (432, 614, 464, 644), (228, 901, 258, 932), (336, 987, 366, 1019), (428, 1093, 458, 1125), (405, 1307, 435, 1339), (414, 1323, 444, 1355), (446, 1341, 478, 1371), (295, 989, 326, 1021), (442, 1295, 474, 1325), (280, 987, 310, 1019), (127, 1031, 157, 1063), (460, 1026, 490, 1058), (242, 985, 274, 1016), (423, 1118, 453, 1150), (71, 1000, 101, 1031), (193, 1003, 223, 1035), (161, 1016, 193, 1046), (462, 1203, 492, 1235), (188, 1010, 218, 1042), (108, 1031, 138, 1063), (329, 1675, 361, 1706), (35, 1730, 67, 1760), (30, 1725, 60, 1757), (55, 1693, 87, 1723), (386, 1683, 416, 1714), (28, 1736, 58, 1767), (143, 1815, 173, 1847), (239, 1596, 271, 1626), (391, 1583, 421, 1615), (274, 1573, 306, 1603), (203, 1698, 234, 1730), (182, 1591, 214, 1621), (173, 1826, 203, 1858), (202, 1897, 234, 1927), (115, 1812, 145, 1844), (80, 1714, 111, 1744), (234, 1675, 265, 1706), (322, 1792, 352, 1824), (133, 1813, 165, 1844), (104, 1642, 134, 1674), (46, 1861, 76, 1893), (156, 1734, 188, 1764), (85, 1667, 117, 1697), (280, 1587, 310, 1619), (341, 1520, 372, 1552), (232, 1732, 264, 1762), (196, 1714, 228, 1744), (150, 1879, 180, 1911), (276, 1594, 306, 1626), (234, 1798, 264, 1829), (322, 1783, 354, 1813), (294, 1803, 324, 1835), (228, 1725, 260, 1755), (384, 1865, 416, 1895), (237, 1902, 269, 1932), (324, 1529, 354, 1560), (297, 1652, 329, 1683), (297, 1794, 327, 1826), (248, 1617, 280, 1647), (50, 1698, 80, 1730), (331, 1808, 363, 1838), (464, 1610, 494, 1642), (810, 195, 840, 226), (499, 402, 529, 433), (805, 297, 835, 329), (763, 138, 793, 170), (791, 274, 823, 304), (814, 161, 846, 191), (835, 322, 867, 352), (550, 216, 580, 248), (711, 372, 743, 402), (770, 5, 800, 37), (876, 12, 906, 44), (580, 306, 610, 338), (757, 120, 789, 150), (922, 449, 954, 479), (563, 237, 594, 267), (847, 354, 878, 386), (628, 7, 660, 37), (732, 99, 763, 131), (616, 97, 646, 129), (865, 175, 897, 205), (577, 92, 607, 124), (559, 274, 589, 306), (658, 80, 688, 111), (554, 225, 584, 257), (515, 317, 545, 349), (906, 870, 938, 901), (637, 895, 667, 927), (524, 722, 556, 752), (901, 594, 932, 625), (594, 874, 625, 906), (736, 849, 768, 879), (805, 701, 835, 732), (865, 906, 897, 936), (499, 648, 529, 679), (690, 734, 722, 764), (571, 936, 602, 968), (580, 573, 610, 605), (685, 662, 717, 692), (633, 633, 663, 665), (833, 722, 863, 754), (909, 644, 939, 676), (632, 911, 663, 941), (573, 584, 603, 616), (646, 941, 676, 973), (943, 939, 973, 971), (780, 763, 810, 794), (807, 862, 839, 892), (706, 520, 736, 552), (538, 1277, 570, 1307), (731, 1412, 761, 1444), (513, 1178, 543, 1210), (842, 1067, 874, 1097), (801, 1352, 833, 1382), (704, 987, 736, 1017), (504, 1171, 534, 1203), (893, 1224, 925, 1254), (754, 1394, 786, 1424), (844, 1168, 874, 1200), (649, 1157, 679, 1189), (824, 1054, 855, 1086), (633, 1077, 665, 1108), (883, 1150, 915, 1180), (736, 1362, 766, 1394), (842, 1054, 874, 1085), (545, 1403, 575, 1435), (479, 1062, 511, 1092), (510, 1323, 541, 1353), (692, 973, 722, 1005), (893, 1150, 925, 1180), (529, 1226, 561, 1256), (936, 1129, 966, 1161), (688, 959, 720, 989), (837, 970, 867, 1001), (832, 1062, 863, 1092), (743, 1396, 775, 1426), (683, 1279, 713, 1311), (672, 1141, 702, 1173), (803, 1021, 835, 1051), (633, 1396, 665, 1426), (890, 1173, 920, 1205), (752, 1401, 782, 1433), (872, 1060, 904, 1090), (695, 1201, 725, 1233), (711, 1691, 741, 1723), (708, 1684, 738, 1716), (741, 1614, 771, 1645), (901, 1822, 931, 1854), (931, 1527, 962, 1557), (794, 1810, 826, 1840), (924, 1874, 954, 1905), (901, 1808, 932, 1838), (731, 1612, 763, 1642), (824, 1444, 855, 1476), (867, 1798, 897, 1829), (801, 1867, 833, 1897), (727, 1598, 759, 1628), (573, 1456, 605, 1486), (888, 1635, 920, 1665), (671, 1897, 701, 1928), (630, 1520, 660, 1552), (639, 1619, 671, 1649), (932, 1714, 962, 1746), (533, 1790, 563, 1822), (674, 1530, 706, 1560), (784, 1739, 814, 1771), (851, 1776, 881, 1808), (855, 1661, 885, 1693), (846, 1799, 878, 1829), (899, 1458, 929, 1490), (663, 1534, 695, 1564), (623, 1509, 655, 1539), (663, 1502, 695, 1532), (676, 1557, 708, 1587), (665, 1684, 697, 1714), (738, 1594, 770, 1624), (858, 1773, 890, 1803), (669, 1750, 699, 1782), (943, 1835, 973, 1867), (731, 1858, 763, 1888), (564, 1773, 596, 1803), (869, 1766, 899, 1798), (1378, 195, 1410, 225), (1368, 188, 1399, 218), (1274, 297, 1306, 327), (1053, 265, 1083, 297), (1283, 163, 1313, 195), (1290, 456, 1320, 488), (1083, 117, 1113, 149), (1284, 465, 1316, 495), (1399, 929, 1430, 961), (1092, 529, 1122, 561), (1274, 876, 1306, 906), (1261, 876, 1292, 908), (1205, 803, 1237, 833), (1403, 902, 1435, 932), (1396, 938, 1426, 970), (1405, 890, 1437, 920), (1210, 932, 1242, 962), (1046, 534, 1076, 566), (1300, 855, 1332, 885), (1224, 821, 1256, 851), (1249, 908, 1279, 939), (970, 522, 1000, 554), (1369, 839, 1399, 870), (1419, 941, 1449, 973), (1196, 863, 1226, 895), (1421, 901, 1453, 931), (1203, 663, 1235, 694), (1053, 540, 1083, 571), (1398, 918, 1428, 950), (1283, 881, 1313, 913), (1414, 908, 1445, 938), (1396, 885, 1426, 916), (1407, 932, 1437, 964), (1178, 1093, 1208, 1125), (1106, 1037, 1136, 1069), (1085, 994, 1115, 1026), (1161, 1412, 1192, 1442), (1108, 1336, 1138, 1368), (971, 996, 1001, 1028), (1145, 1106, 1175, 1138), (1412, 1024, 1444, 1054), (1405, 1109, 1437, 1139), (1042, 1148, 1074, 1178), (1398, 977, 1430, 1007), (1323, 1382, 1353, 1414), (1403, 1362, 1433, 1394), (1382, 978, 1412, 1010), (1385, 1272, 1415, 1304), (1076, 1210, 1108, 1240), (975, 1152, 1005, 1184), (991, 959, 1021, 991), (1065, 980, 1095, 1012), (1086, 1017, 1118, 1047), (1187, 1284, 1219, 1315), (1017, 1118, 1049, 1148), (1389, 1348, 1421, 1378), (1417, 1054, 1447, 1086), (1023, 1557, 1053, 1589), (1129, 1523, 1159, 1555), (1191, 1511, 1223, 1541), (1014, 1537, 1044, 1569), (978, 1672, 1008, 1704), (1189, 1799, 1221, 1829), (1380, 1589, 1410, 1621), (1203, 1518, 1235, 1548), (1215, 1697, 1247, 1727), (1178, 1580, 1208, 1612), (1295, 1615, 1327, 1645), (1113, 1750, 1145, 1780), (1115, 1875, 1145, 1907), (1010, 1479, 1042, 1509), (1001, 1882, 1033, 1913), (1017, 1548, 1047, 1580), (1031, 1553, 1063, 1583), (1269, 1502, 1299, 1534), (1175, 1865, 1205, 1897), (1357, 1716, 1389, 1746), (1175, 1463, 1205, 1495), (1074, 1886, 1104, 1918), (1205, 1852, 1235, 1884), (1127, 1500, 1157, 1532), (1203, 1746, 1233, 1778), (1210, 1522, 1240, 1553), (1891, 437, 1921, 469), (1739, 637, 1771, 667), (1502, 853, 1534, 883), (1472, 920, 1504, 950), (1506, 832, 1536, 863), (1483, 674, 1514, 704), (1628, 637, 1658, 669), (1697, 580, 1727, 612), (1852, 725, 1884, 755), (1647, 621, 1679, 651), (1882, 702, 1914, 732), (1865, 671, 1895, 702), (1525, 1323, 1555, 1355), (1461, 1085, 1493, 1115), (1569, 968, 1599, 1000), (1628, 1307, 1658, 1339), (1467, 1419, 1497, 1451), (1854, 1309, 1886, 1339), (1513, 1403, 1545, 1433), (1527, 964, 1559, 994), (1539, 1086, 1569, 1118), (1746, 1031, 1776, 1063), (1557, 982, 1587, 1014), (1484, 1047, 1514, 1079), (1507, 1261, 1539, 1292), (1867, 1129, 1897, 1161), (1605, 1063, 1637, 1093), (1568, 1001, 1599, 1031), (1805, 1350, 1835, 1382), (1550, 962, 1582, 993), (1543, 1062, 1573, 1093), (1537, 984, 1568, 1016), (1626, 1387, 1656, 1419), (1598, 973, 1629, 1003), (1493, 1256, 1525, 1286), (1484, 1254, 1516, 1284), (1591, 1886, 1621, 1918), (1760, 1541, 1790, 1573), (1737, 1863, 1767, 1895), (1658, 1720, 1688, 1752), (1530, 1644, 1560, 1675), (1847, 1875, 1879, 1905), (1603, 1684, 1633, 1716), (1557, 1898, 1587, 1930), (1789, 1603, 1819, 1635), (1626, 1681, 1656, 1713), (1486, 1649, 1518, 1679), (1582, 1895, 1612, 1927), (1867, 1516, 1897, 1548), (1852, 1737, 1882, 1769), (287, 313, 317, 343), (143, 331, 173, 361), (453, 419, 483, 449), (292, 287, 322, 317), (65, 152, 96, 182), (288, 372, 318, 402), (428, 414, 458, 444), (150, 446, 180, 476), (287, 345, 317, 375), (318, 373, 349, 403), (364, 464, 395, 494), (156, 5, 186, 35), (212, 25, 242, 55), (283, 285, 313, 315), (203, 108, 234, 138), (311, 338, 341, 368), (432, 336, 462, 366), (4, 218, 34, 248), (246, 382, 276, 412), (161, 97, 191, 127), (441, 287, 471, 317), (96, 103, 126, 133), (423, 396, 453, 426), (203, 27, 234, 57), (345, 257, 375, 287), (317, 382, 347, 412), (456, 531, 487, 561), (403, 709, 433, 740), (292, 925, 322, 955), (212, 556, 242, 586), (253, 908, 283, 938), (2, 625, 32, 655), (356, 849, 386, 879), (318, 796, 349, 826), (349, 920, 379, 950), (433, 814, 464, 844), (407, 649, 437, 679), (12, 754, 42, 784), (147, 878, 177, 908), (57, 577, 87, 607), (421, 504, 451, 534), (271, 826, 301, 856), (375, 488, 405, 518), (111, 901, 142, 931), (9, 561, 39, 591), (175, 925, 205, 955), (439, 1155, 469, 1185), (230, 1016, 260, 1046), (299, 1000, 329, 1030), (432, 1343, 462, 1373), (55, 989, 85, 1019), (423, 1100, 453, 1131), (198, 1031, 228, 1062), (437, 1146, 467, 1177), (143, 1042, 173, 1072), (265, 1023, 295, 1053), (391, 1675, 421, 1706), (203, 1614, 234, 1644), (110, 1789, 140, 1819), (134, 1787, 165, 1817), (103, 1748, 133, 1778), (34, 1799, 64, 1829), (177, 1711, 207, 1741), (67, 1783, 97, 1813), (248, 1815, 278, 1845), (382, 1856, 412, 1886), (391, 1665, 421, 1695), (110, 1851, 140, 1881), (234, 1690, 264, 1720), (152, 1750, 182, 1780), (283, 1624, 313, 1654), (0, 1734, 30, 1764), (357, 1775, 387, 1805), (64, 1691, 94, 1721), (395, 1603, 425, 1633), (395, 1780, 425, 1810), (21, 1805, 51, 1835), (888, 357, 918, 387), (568, 341, 598, 372), (481, 113, 511, 143), (747, 410, 777, 441), (833, 42, 863, 73), (552, 117, 582, 147), (821, 324, 851, 354), (738, 180, 768, 211), (540, 418, 570, 448), (586, 44, 616, 74), (628, 120, 658, 150), (621, 108, 651, 138), (740, 127, 770, 157), (511, 430, 541, 460), (612, 143, 642, 173), (943, 430, 973, 460), (520, 711, 550, 741), (931, 936, 961, 966), (706, 888, 736, 918), (502, 637, 533, 667), (766, 582, 796, 612), (906, 685, 936, 715), (479, 632, 510, 662), (832, 752, 862, 782), (580, 540, 610, 570), (559, 494, 589, 524), (814, 679, 844, 709), (621, 660, 651, 690), (513, 814, 543, 844), (856, 754, 886, 784), (819, 754, 849, 784), (534, 479, 564, 510), (671, 748, 701, 778), (867, 1054, 897, 1085), (603, 962, 633, 993), (533, 1419, 563, 1449), (874, 1150, 904, 1180), (798, 1088, 828, 1118), (901, 1077, 931, 1108), (931, 1143, 961, 1173), (938, 1405, 968, 1435), (796, 1017, 826, 1047), (816, 1023, 846, 1053), (548, 1081, 579, 1111), (750, 1028, 780, 1058), (929, 1056, 959, 1086), (771, 1056, 801, 1086), (890, 1062, 920, 1092), (616, 1389, 646, 1419), (538, 1412, 568, 1442), (501, 1023, 531, 1053), (711, 1003, 741, 1033), (851, 1118, 881, 1148), (727, 1309, 757, 1339), (793, 1079, 823, 1109), (630, 1113, 660, 1143), (686, 984, 717, 1014), (830, 1035, 860, 1065), (579, 1767, 609, 1798), (847, 1891, 878, 1921), (745, 1851, 775, 1881), (610, 1486, 640, 1516), (642, 1467, 672, 1497), (653, 1598, 683, 1628), (607, 1776, 637, 1806), (554, 1776, 584, 1806), (722, 1888, 752, 1918), (495, 1697, 525, 1727), (563, 1456, 593, 1486), (692, 1651, 722, 1681), (612, 1792, 642, 1822), (750, 1805, 780, 1835), (591, 1741, 621, 1771), (754, 1571, 784, 1601), (688, 1713, 718, 1743), (748, 1842, 778, 1872), (1387, 214, 1417, 244), (1373, 200, 1403, 230), (961, 299, 991, 329), (1039, 69, 1069, 99), (1150, 464, 1180, 494), (1180, 770, 1210, 800), (1407, 911, 1437, 941), (1200, 789, 1230, 819), (1148, 720, 1178, 750), (1185, 736, 1215, 766), (1359, 582, 1389, 612), (1008, 593, 1039, 623), (1412, 727, 1442, 757), (991, 658, 1021, 688), (1412, 517, 1442, 547), (970, 607, 1000, 637), (1322, 651, 1352, 681), (1405, 924, 1435, 954), (1311, 943, 1341, 973), (1203, 927, 1233, 957), (966, 1148, 996, 1178), (1247, 1111, 1277, 1141), (968, 1164, 998, 1194), (1297, 1072, 1327, 1102), (1226, 977, 1256, 1007), (975, 1219, 1005, 1249), (1235, 961, 1265, 991), (1083, 1422, 1113, 1453), (1231, 970, 1261, 1000), (1090, 1231, 1120, 1261), (1417, 1154, 1447, 1184), (959, 1215, 989, 1246), (1422, 1001, 1453, 1031), (1069, 1668, 1099, 1698), (1175, 1507, 1205, 1537), (1076, 1453, 1106, 1483), (1109, 1495, 1139, 1525), (1369, 1647, 1399, 1677), (1060, 1801, 1090, 1831), (987, 1750, 1017, 1780), (1054, 1810, 1085, 1840), (1177, 1444, 1207, 1474), (1325, 1516, 1355, 1546), (1169, 1861, 1200, 1891), (1003, 1518, 1033, 1548), (962, 1619, 993, 1649), (1067, 1796, 1097, 1826), (1007, 1527, 1037, 1557), (1184, 1506, 1214, 1536), (1108, 1479, 1138, 1509), (1054, 1568, 1085, 1598), (1744, 656, 1775, 686), (1704, 556, 1734, 586), (1757, 612, 1787, 642), (1467, 892, 1497, 922), (1596, 607, 1626, 637), (1778, 621, 1808, 651), (1569, 913, 1599, 943), (1571, 711, 1601, 741), (1437, 936, 1467, 966), (1520, 968, 1550, 998), (1545, 1042, 1575, 1072), (1787, 1138, 1817, 1168), (1856, 1387, 1886, 1417), (1488, 1341, 1518, 1371), (1801, 1417, 1831, 1447), (1743, 1256, 1773, 1286), (1559, 970, 1589, 1000), (1647, 1384, 1677, 1414), (1895, 959, 1925, 989), (1484, 1014, 1514, 1044), (1842, 1269, 1872, 1299), (1868, 1615, 1898, 1645), (1458, 1594, 1488, 1624), (1495, 1734, 1525, 1764), (1801, 1716, 1831, 1746), (1730, 1769, 1760, 1799), (1893, 1697, 1923, 1727), (1836, 1560, 1867, 1591), (1444, 1617, 1474, 1647), (1605, 1495, 1635, 1525), (1721, 1764, 1752, 1794), (1667, 1893, 1697, 1923), (1472, 1449, 1502, 1479), (426, 621, 458, 649), (395, 1651, 426, 1679), (193, 1720, 221, 1752), (287, 1651, 318, 1679), (370, 1813, 398, 1845), (106, 1681, 134, 1713), (338, 1798, 370, 1826), (759, 131, 791, 159), (669, 663, 701, 692), (621, 715, 649, 747), (502, 1125, 534, 1154), (1104, 1468, 1132, 1500), (1545, 906, 1573, 938), (1534, 1037, 1562, 1069), (1861, 1621, 1890, 1652), (0, 260, 28, 290), (432, 775, 460, 805), (170, 932, 198, 962), (267, 1651, 297, 1679), (479, 623, 508, 653), (479, 667, 508, 697), (653, 989, 683, 1017), (1424, 736, 1453, 766), (1766, 410, 1796, 439), (1744, 534, 1773, 564), (1619, 1392, 1647, 1422), (959, 1693, 985, 1725), (1904, 1293, 1932, 1322), (959, 1307, 985, 1338), (959, 1010, 985, 1040)
inflammatory: (959, 1320, 991, 1352)
lymphocyte: (327, 927, 359, 959), (405, 1185, 437, 1217), (249, 1007, 281, 1039), (665, 366, 697, 398), (922, 1194, 954, 1226), (1559, 1031, 1591, 1063), (1787, 1851, 1819, 1882), (426, 1109, 458, 1139), (251, 993, 281, 1024), (234, 984, 265, 1014), (142, 1053, 173, 1083), (175, 1016, 205, 1047), (163, 1592, 193, 1624), (939, 897, 971, 927), (731, 584, 763, 614), (901, 534, 931, 566), (754, 1530, 784, 1562), (1300, 350, 1330, 382), (1120, 110, 1150, 142), (1709, 837, 1741, 867), (1601, 1569, 1633, 1599), (384, 398, 414, 428), (274, 361, 304, 391), (421, 1129, 451, 1159), (249, 977, 280, 1007), (442, 1058, 472, 1088), (216, 1016, 246, 1046), (453, 1322, 483, 1352), (786, 90, 816, 120), (685, 688, 715, 718), (632, 580, 662, 610), (644, 724, 674, 754), (679, 966, 709, 996), (1468, 1293, 1499, 1323)
